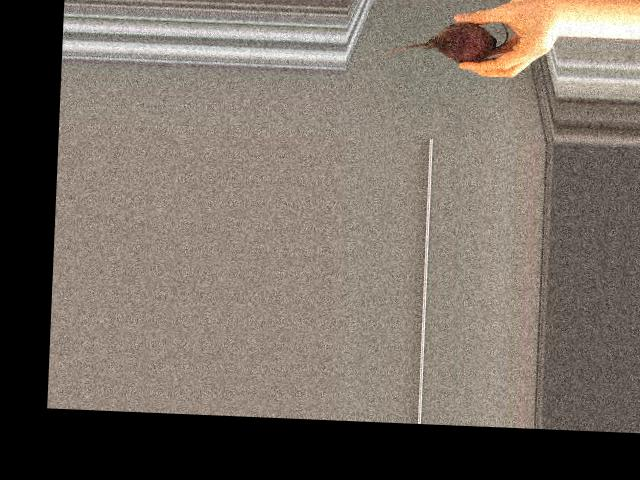beet: (380, 17, 507, 63)
